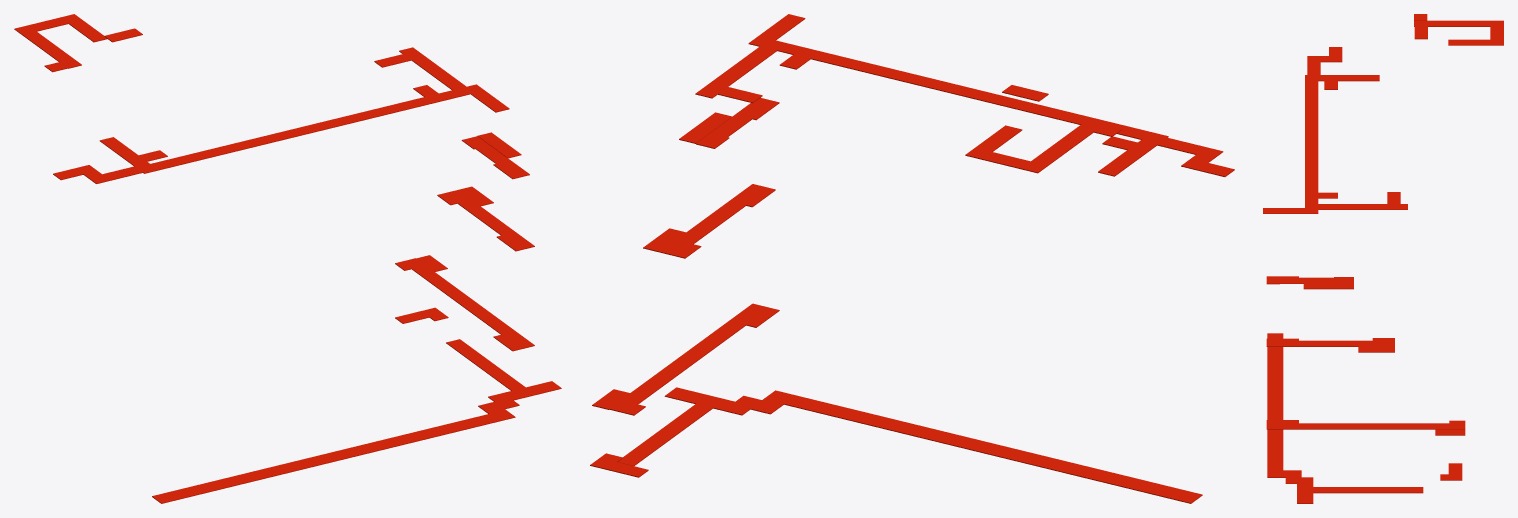
Rendered from P1_Safety_route.fbx.
3 views of the same model, side by side, from view 1: azimuth 30°, elevation 25°; view 2: azimuth 150°, elevation 25°; view 3: azimuth 270°, elevation 25° (orthographic). The views are drawn at different scales.
Parts seen in each view (by area): view 1: P1_Safety_route; view 2: P1_Safety_route; view 3: P1_Safety_route.
Part boxes in pixels (x1=…): P1_Safety_route: x1=14, y1=14, x2=561, y2=503; P1_Safety_route: x1=590, y1=14, x2=1234, y2=503; P1_Safety_route: x1=1263, y1=14, x2=1503, y2=503.
Size of the model in its own units: 3456 by 2660 by 1794.
